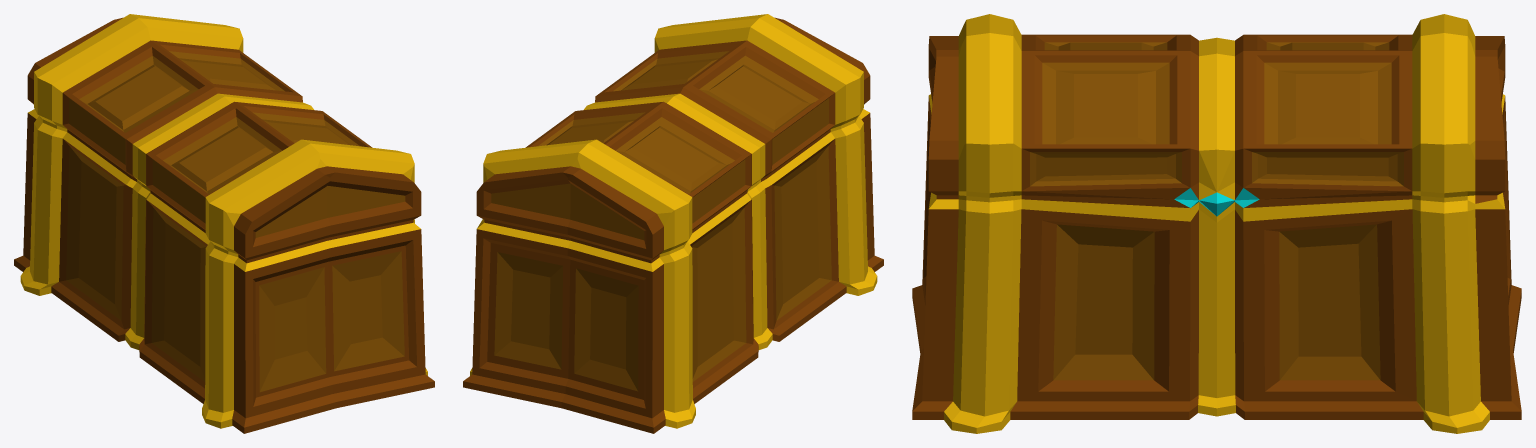
The model's file is Chest2.fbx.
3 views of the same model, side by side, from view 1: azimuth 30°, elevation 25°; view 2: azimuth 150°, elevation 25°; view 3: azimuth 270°, elevation 25° (orthographic). The views are drawn at different scales.
Parts seen in each view (by area): view 1: Cube, Cube.001; view 2: Cube, Cube.001; view 3: Cube, Cube.001.
Boxes of the visible parts, box(x1,y1,x2,y2) form: Cube: box(14, 109, 434, 433); Cube.001: box(27, 14, 421, 263); Cube: box(463, 109, 883, 433); Cube.001: box(476, 14, 870, 263); Cube: box(912, 94, 1521, 433); Cube.001: box(928, 14, 1505, 216).
Bounding box in the file's own units: 248 × 271 × 452.
